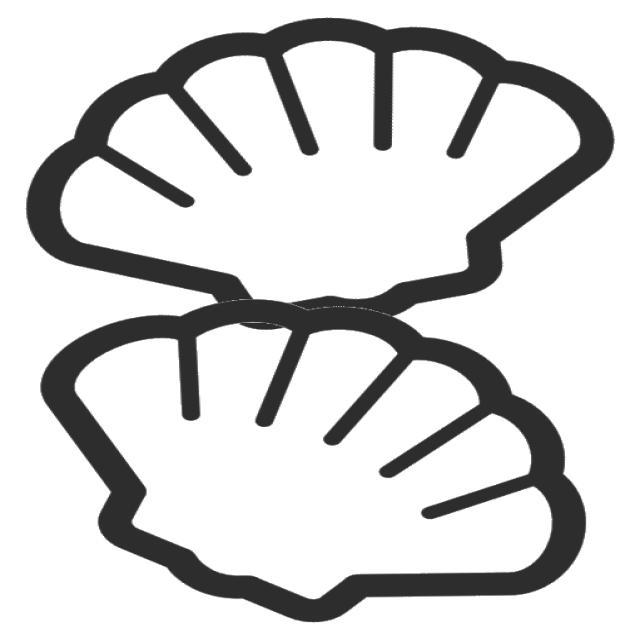shell: (12, 9, 630, 339), (34, 289, 595, 633)
